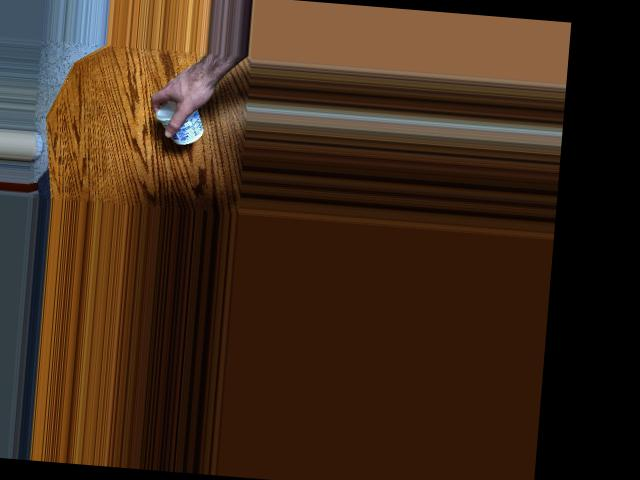cotage: (154, 95, 206, 143)
